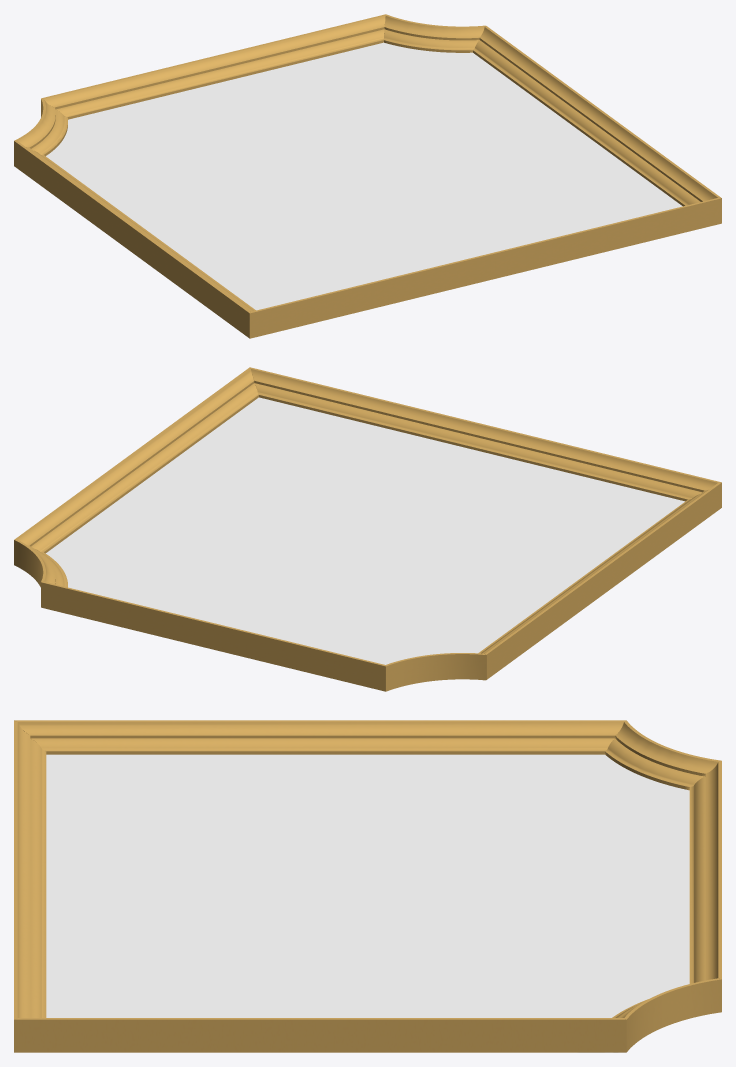
File: 18 - SVANSELE Mirror - gold-colour 78x78 cm.glb
The picture shows the model from 3 angles, top to bottom: view 1: azimuth 30°, elevation 25°; view 2: azimuth 150°, elevation 25°; view 3: azimuth 270°, elevation 25°; orthographic projection. The views are drawn at different scales.
Bounding box in the file's own units: 0.7801 × 0.0405 × 0.78.
Materials: 2 (1 with a texture image).
